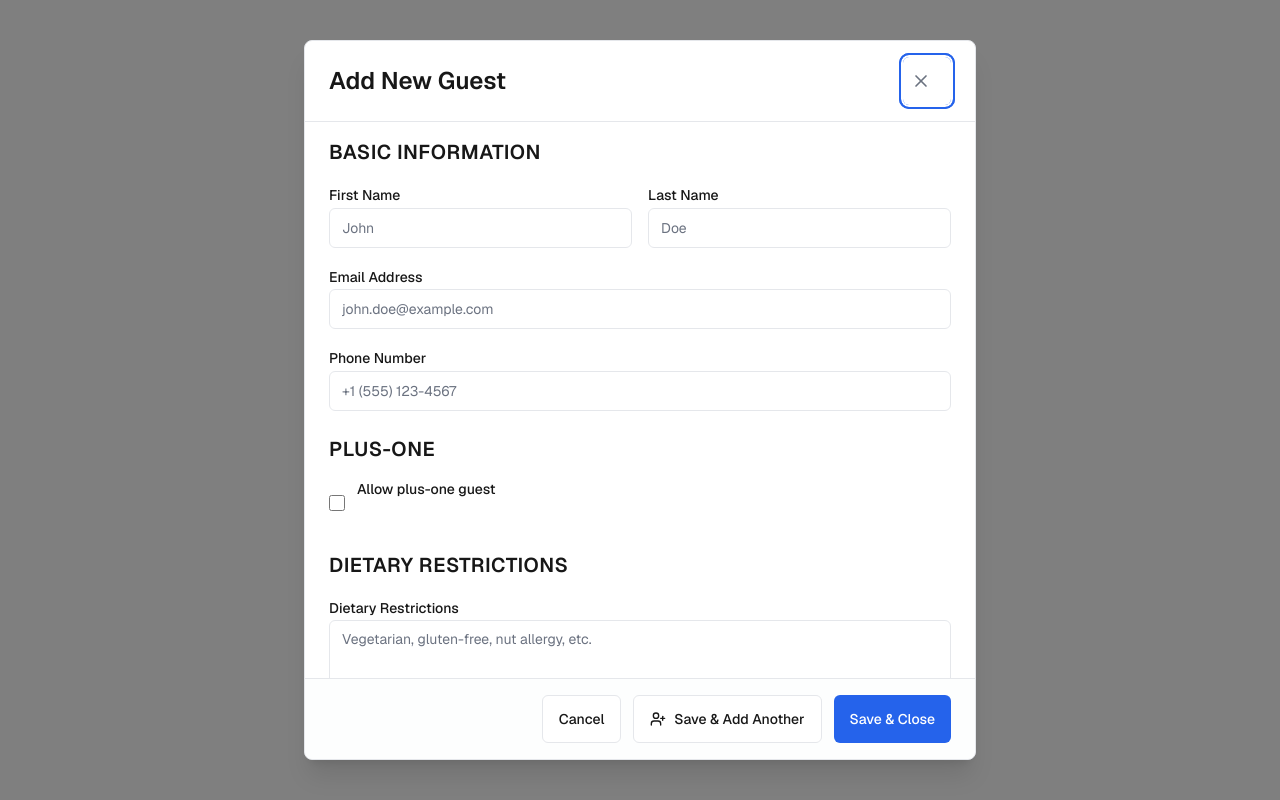
it: AddGuestModal › displays validation errors for empty required fields
Click the button "Save & Close" at x=892, y=719, box [834,695,951,743]
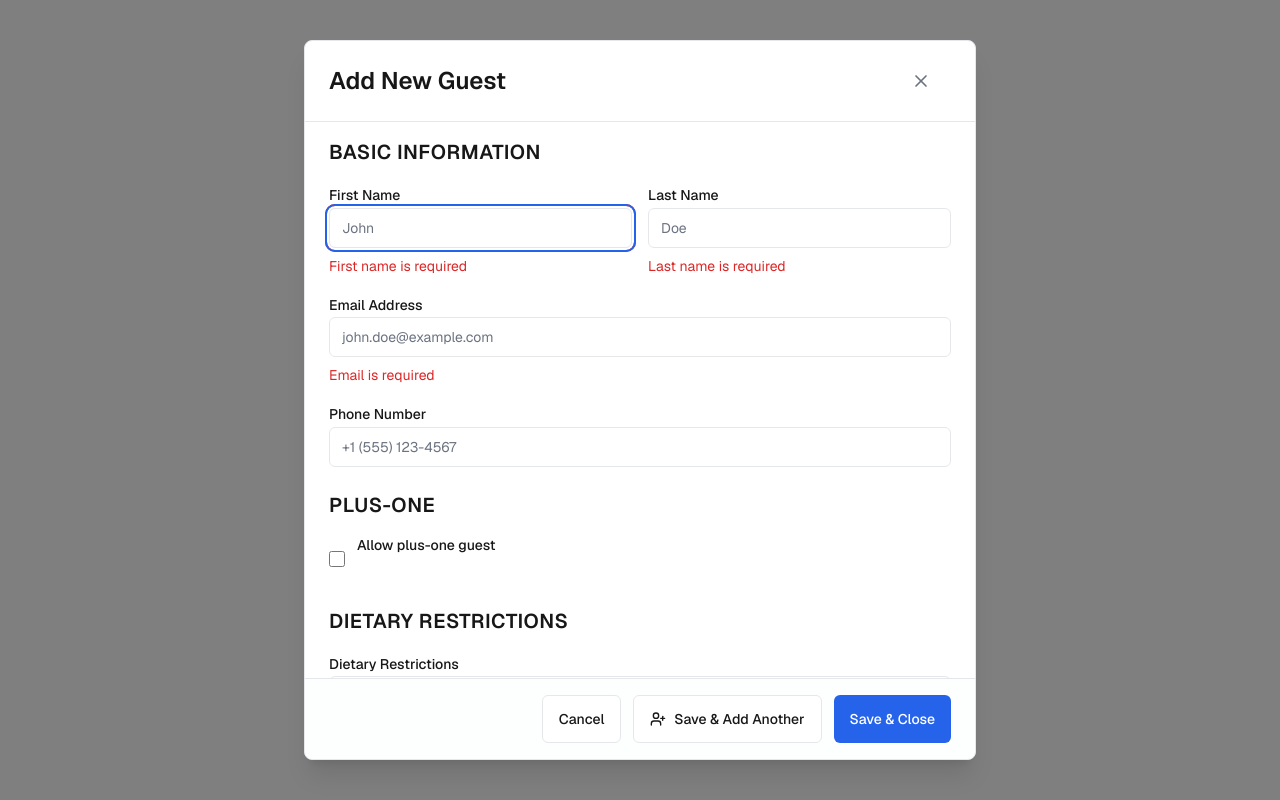
Expected: the text "First name is required" is shown, [329,257,467,275]
Expected: the text "Last name is required" is shown, [648,257,786,275]
Expected: the text "Email is required" is shown, [329,366,435,384]
